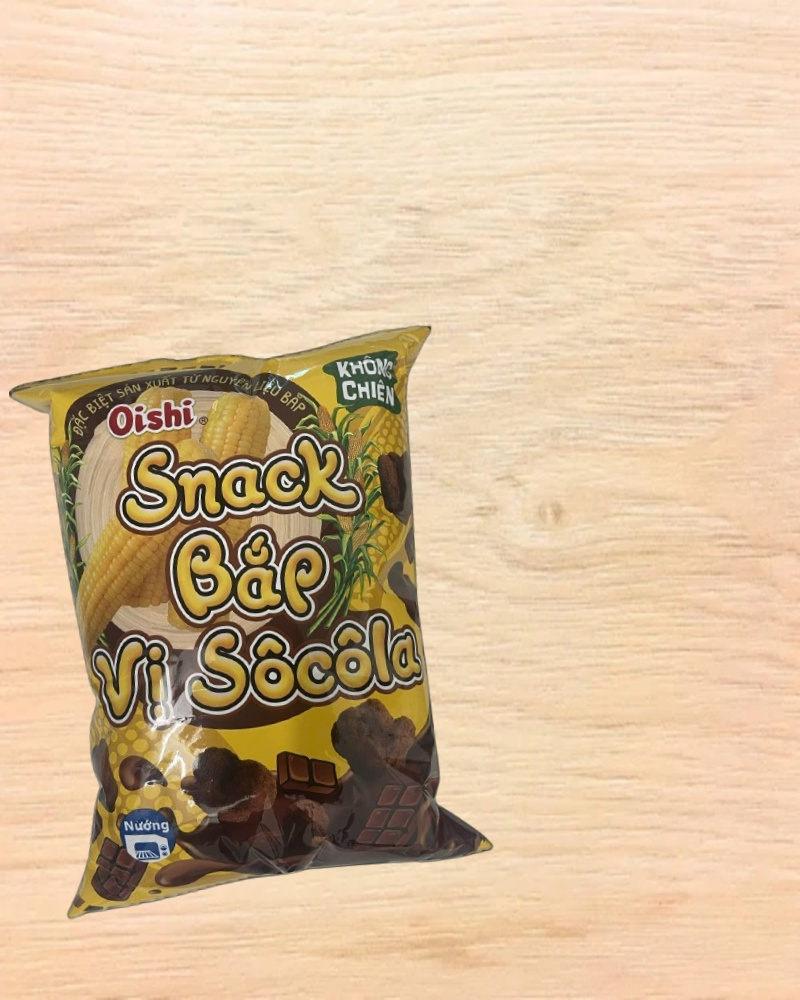Snack socola: (10, 327, 496, 908)
